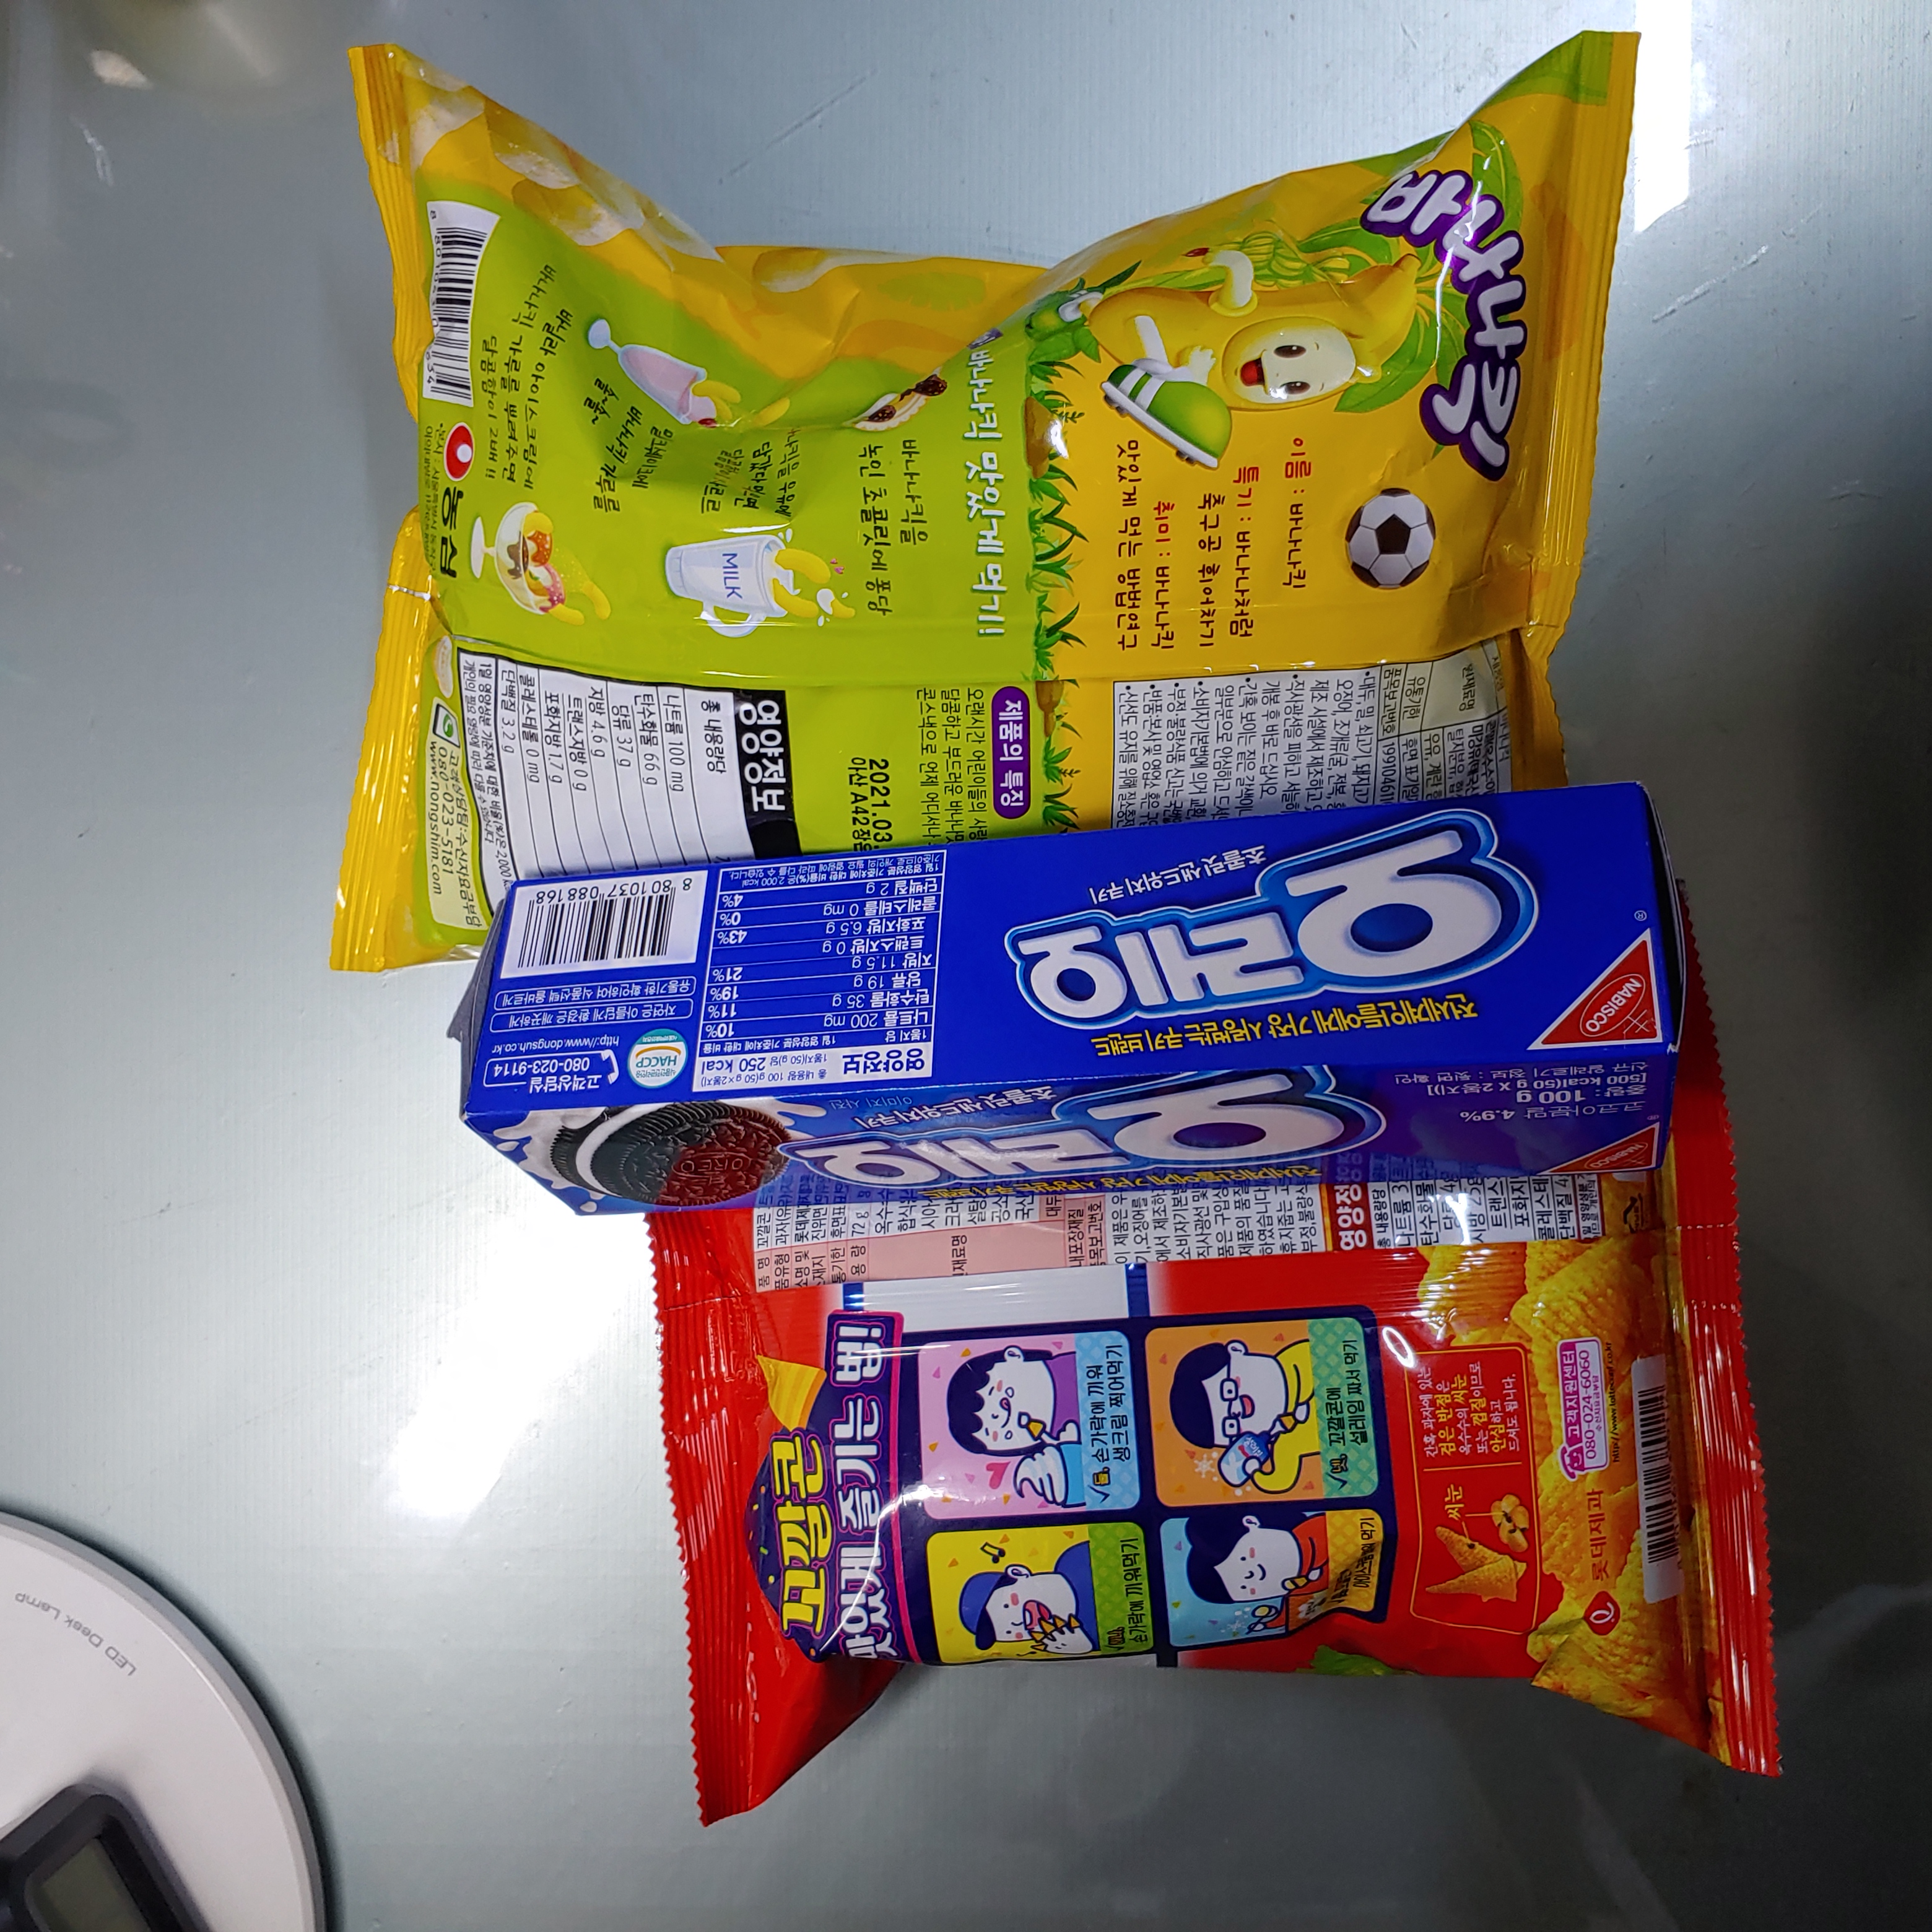banana: (214, 19, 1762, 862)
ggoggalcon: (593, 1150, 1865, 1898)
oreo: (400, 754, 1790, 1277)
